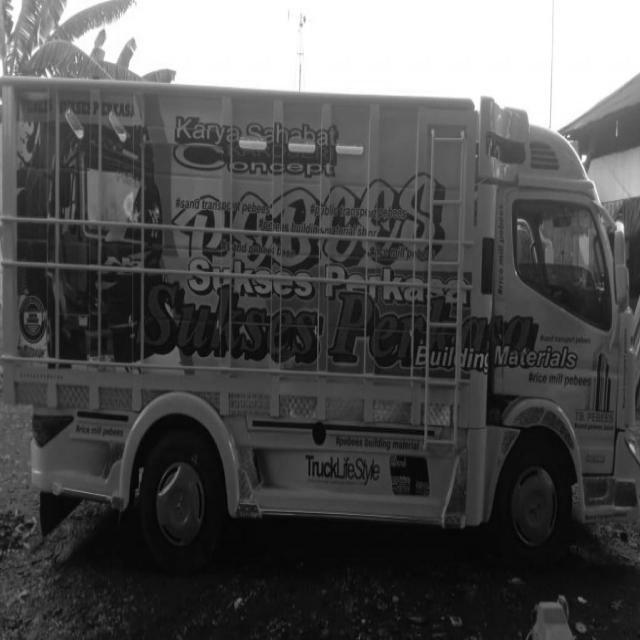truck: (446, 73, 640, 568)
